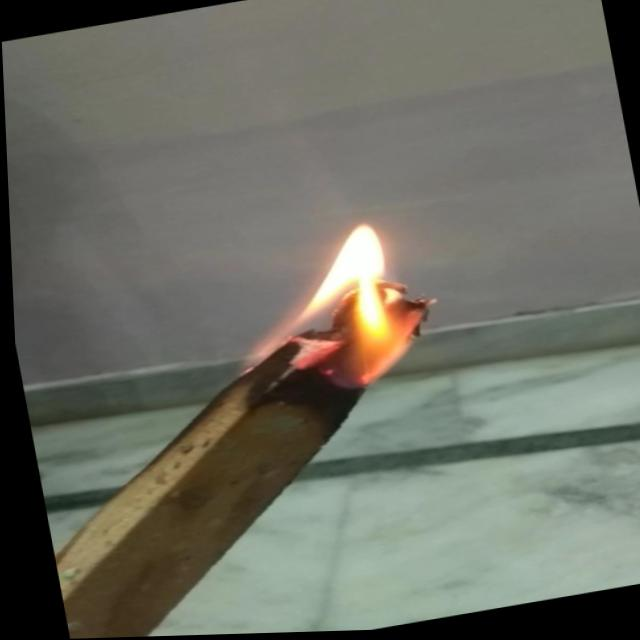fire: (222, 206, 455, 409)
